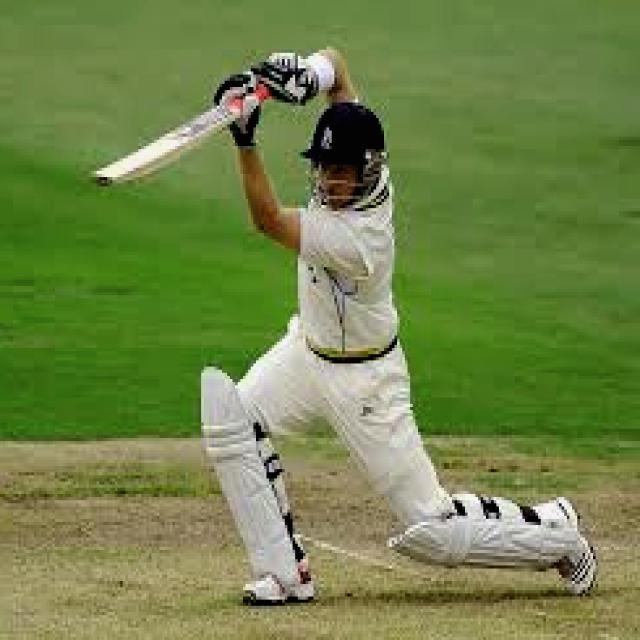bat: (85, 91, 255, 192)
toe: (86, 173, 122, 189)
